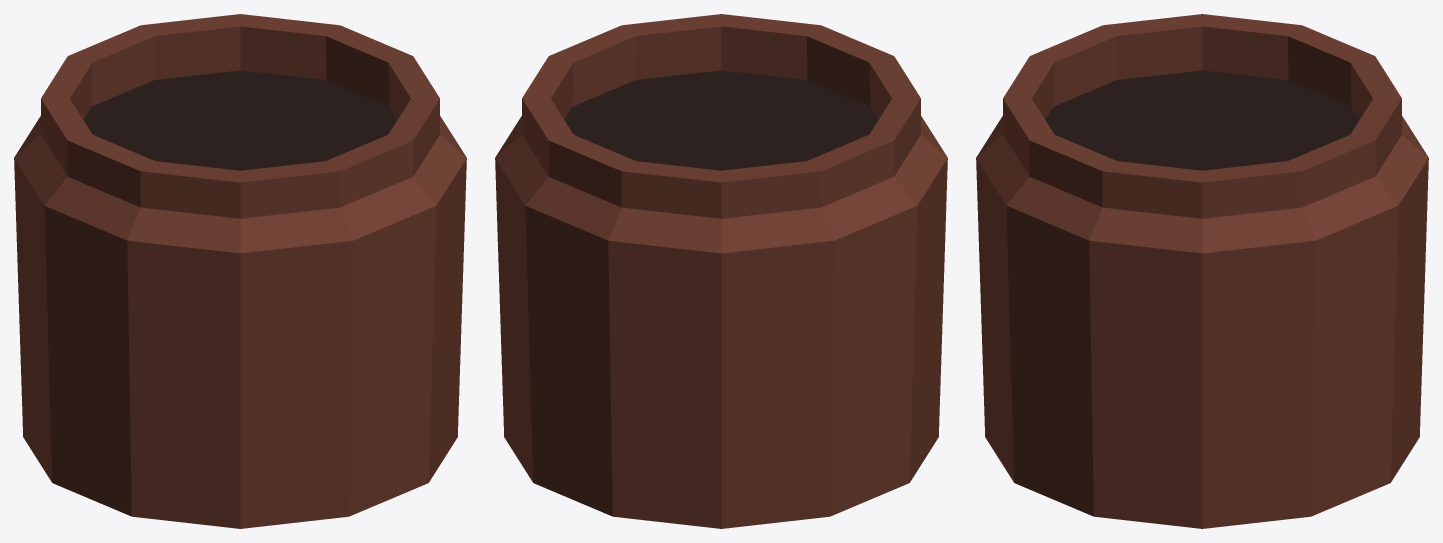
Rendered from MBJ_PlantPack01_Pot03_LOD2_v001.fbx.
3 views of the same model, side by side, from view 1: azimuth 30°, elevation 25°; view 2: azimuth 150°, elevation 25°; view 3: azimuth 270°, elevation 25° (orthographic).
Visible parts, largest first — view 1: PlantPot03_B.001; view 2: PlantPot03_B.001; view 3: PlantPot03_B.001.
Boxes of the visible parts, bbox=[...] form: PlantPot03_B.001: bbox=[14, 14, 466, 528]; PlantPot03_B.001: bbox=[495, 14, 947, 528]; PlantPot03_B.001: bbox=[976, 14, 1428, 528].
Bounding box in the file's own units: 55.4 × 45.74 × 55.4.
